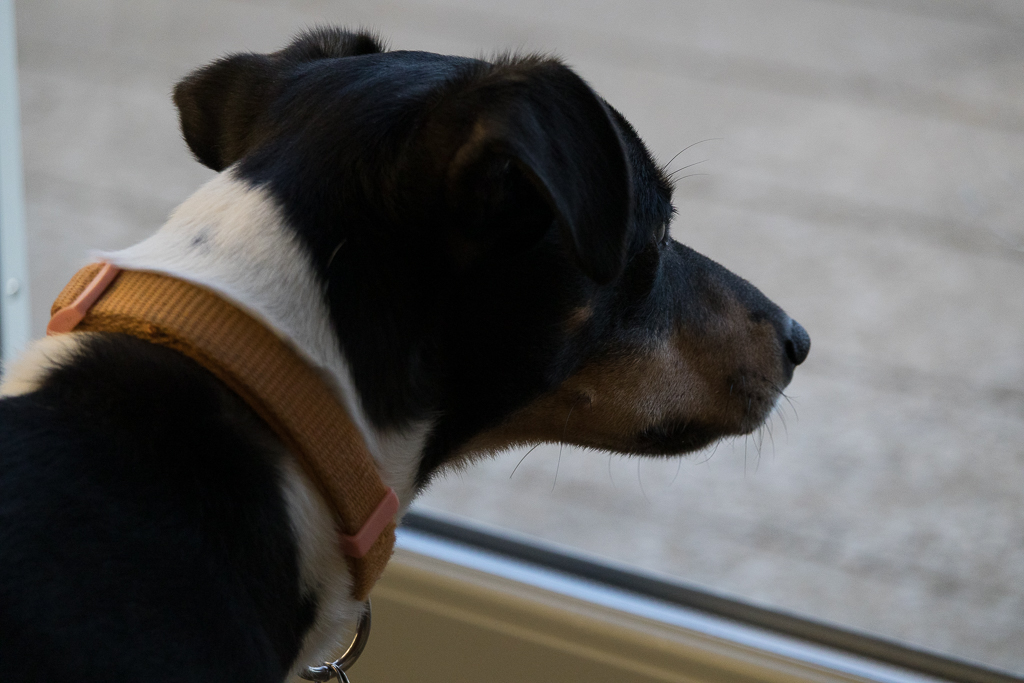Dog: (0, 22, 820, 683)
